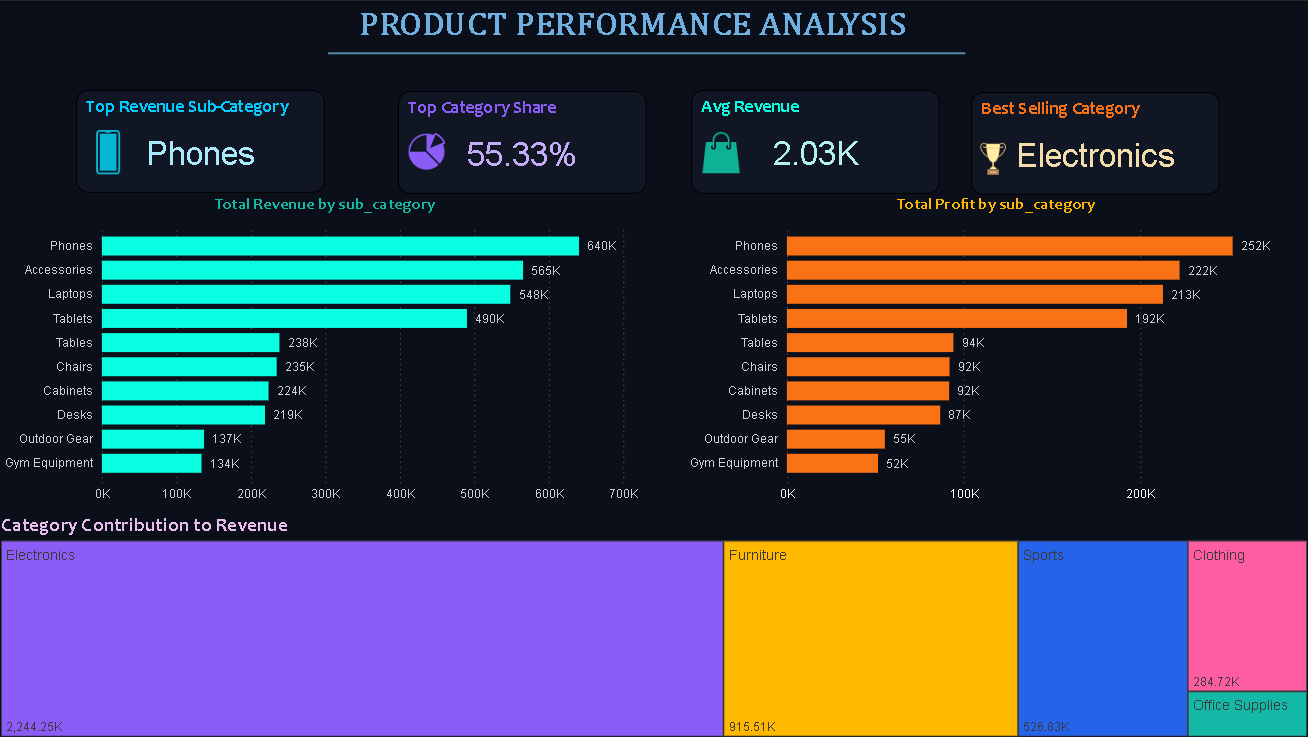

This screenshot's page, from the dashboard's own definition file:
{"tool":"powerbi","page":{"name":"Product Performance","canvas":[1280,720],"ordinal":1},"visuals":[{"type":"clusteredBarChart","title":"Total Revenue by sub_category","fields":{"Y":["DateTable.Total Revenue"],"Category":["sales_data_clean.sub_category"]},"box":[0,187.8,640,308.9],"z":0},{"type":"clusteredBarChart","title":"Total Profit by sub_category","fields":{"Category":["sales_data_clean.sub_category"],"Y":["DateTable.Total Profit"]},"box":[666.7,187.8,613.3,308.9],"z":1000},{"type":"treemap","title":"Category Contribution to Revenue","fields":{"Group":["sales_data_clean.category"],"Values":["DateTable.💰 Total Revenue"]},"box":[0,496.7,1280,223.3],"z":2000},{"type":"textbox","box":[191.1,0,857.1,57.1],"z":3000},{"type":"card","title":"Top Category Share","fields":{"Values":["DateTable.Top Category Share %"]},"box":[391.2,87.5,242,100],"z":4000},{"type":"card","title":"Top Revenue Sub-Category","fields":{"Values":["DateTable.Top Revenue SubCategory"]},"box":[77.8,86.7,242,100],"z":5000},{"type":"card","title":"Best Selling Category","fields":{"Values":["DateTable.Best Selling Category"]},"box":[948.8,88.8,242,100],"z":6000},{"type":"card","title":"Avg Revenue","fields":{"Values":["DateTable.Avg Revenue Per Order"]},"box":[675.6,86.7,242,100],"z":7000},{"type":"shape","box":[323.3,44.4,620,12.2],"z":8000},{"type":"image","box":[86.6,123.5,44.7,46.7],"z":9000},{"type":"image","box":[399.8,123.5,37.9,46.7],"z":10000},{"type":"image","box":[684.7,123.5,40.9,46.7],"z":11000},{"type":"image","box":[948.3,137.1,42.8,33.1],"z":12000}]}

Visuals, with their boxes in screenshot pixels (x1, y1, x2, y2), scaled from the page's 1280x720 canvas onto the 1308x737 screenshot:
"Total Revenue by sub_category" clusteredBarChart: Rect(0, 192, 654, 508)
"Total Profit by sub_category" clusteredBarChart: Rect(681, 192, 1307, 508)
"Category Contribution to Revenue" treemap: Rect(0, 508, 1307, 736)
textbox: Rect(195, 0, 1071, 58)
"Top Category Share" card: Rect(400, 90, 647, 192)
"Top Revenue Sub-Category" card: Rect(80, 89, 327, 191)
"Best Selling Category" card: Rect(970, 91, 1217, 193)
"Avg Revenue" card: Rect(690, 89, 938, 191)
shape: Rect(330, 45, 964, 58)
image: Rect(88, 126, 134, 174)
image: Rect(409, 126, 447, 174)
image: Rect(700, 126, 741, 174)
image: Rect(969, 140, 1013, 174)
